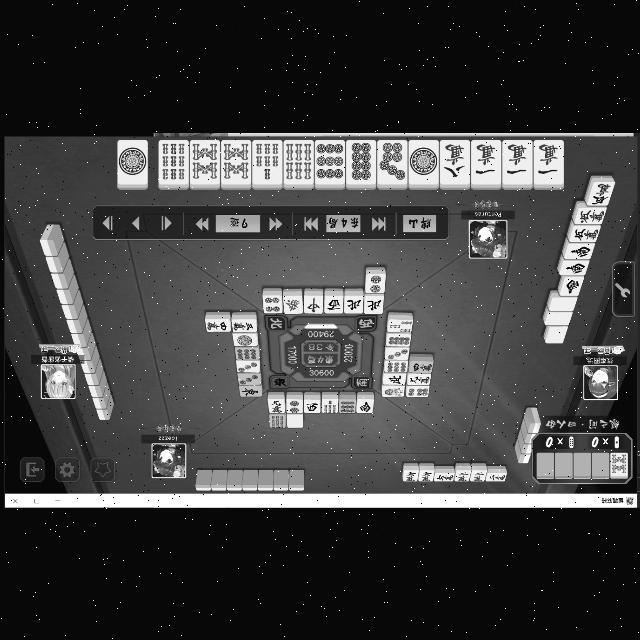1m: (532, 139, 564, 189), (501, 136, 532, 187), (467, 140, 498, 187)
1p: (112, 135, 150, 189), (409, 142, 436, 186), (223, 330, 257, 348)
1s: (381, 385, 404, 401)
2m: (454, 462, 474, 484), (484, 466, 508, 484), (472, 462, 486, 483)
2p: (362, 269, 384, 297), (284, 391, 302, 414)
3m: (228, 312, 260, 334)
3p: (232, 371, 260, 385), (385, 346, 413, 359), (234, 362, 260, 372)
3s: (382, 310, 411, 332)
4m: (200, 314, 230, 334), (406, 357, 434, 373)
4p: (262, 288, 282, 314)
5m: (588, 172, 614, 206), (570, 205, 606, 225), (568, 226, 602, 244)
6m: (417, 461, 433, 485), (404, 464, 421, 486), (434, 466, 454, 482)
6p: (404, 386, 434, 404)
6s: (282, 139, 312, 189)
7p: (374, 140, 406, 188)
7s: (249, 136, 283, 190), (317, 392, 339, 418)
8m: (439, 140, 468, 186)
8p: (346, 140, 376, 187), (386, 334, 414, 348)
8s: (187, 138, 220, 188), (222, 138, 250, 188), (609, 449, 631, 478)
9m: (267, 391, 285, 415), (405, 374, 431, 388)
9p: (314, 140, 346, 183), (384, 358, 411, 374), (340, 391, 354, 415), (235, 347, 259, 361)
9s: (156, 138, 188, 192), (266, 413, 282, 435)
chun: (304, 291, 318, 315)
haku: (539, 325, 577, 347), (544, 294, 580, 312), (541, 312, 575, 326), (284, 411, 302, 432)
hatsu: (282, 290, 302, 314)
nan: (552, 257, 592, 277), (559, 272, 585, 298), (564, 242, 596, 262), (356, 394, 376, 414)
pe: (344, 292, 366, 314), (363, 293, 385, 313), (380, 373, 406, 387)
sha: (324, 285, 344, 317), (302, 396, 320, 416)
tou: (238, 386, 262, 402)
